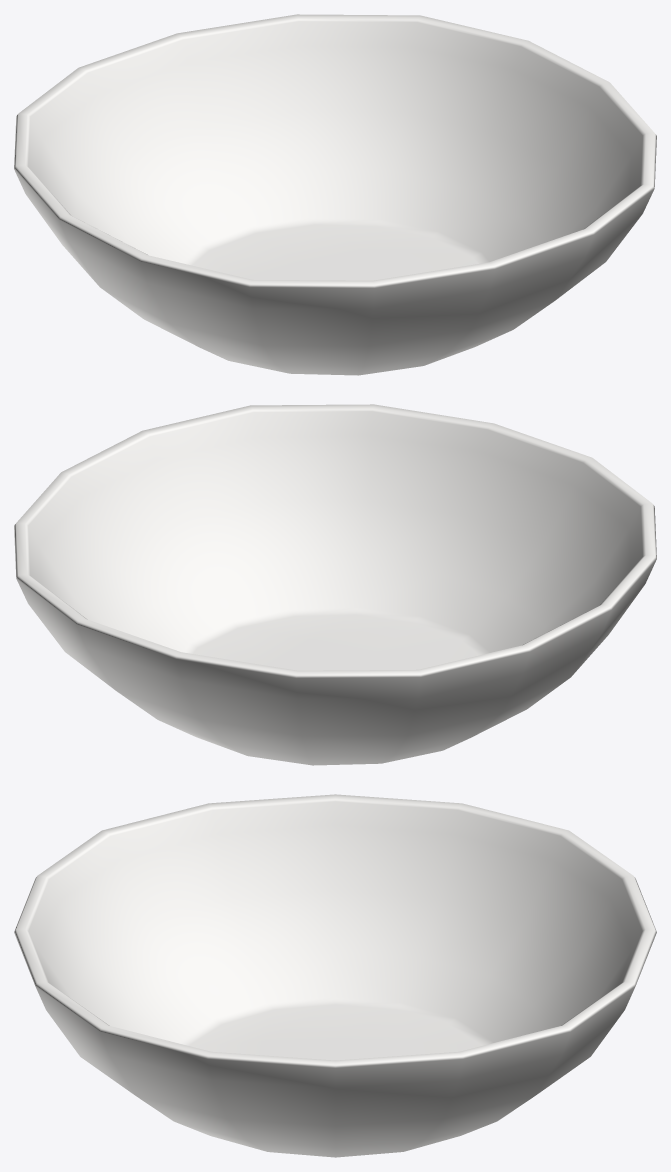
Rendered from Plate_5.glb.
The picture shows the model from 3 angles, top to bottom: view 1: azimuth 30°, elevation 25°; view 2: azimuth 150°, elevation 25°; view 3: azimuth 270°, elevation 25°; orthographic projection.
Parts seen in each view (by area): view 1: Plate_5; view 2: Plate_5; view 3: Plate_5.
Part boxes in pixels (x1=…): Plate_5: x1=14, y1=14, x2=656, y2=375; Plate_5: x1=14, y1=404, x2=656, y2=765; Plate_5: x1=14, y1=794, x2=656, y2=1157.
Bounding box in the file's own units: 0.3191 × 0.0862 × 0.3191.
1 material, 1 textured.
